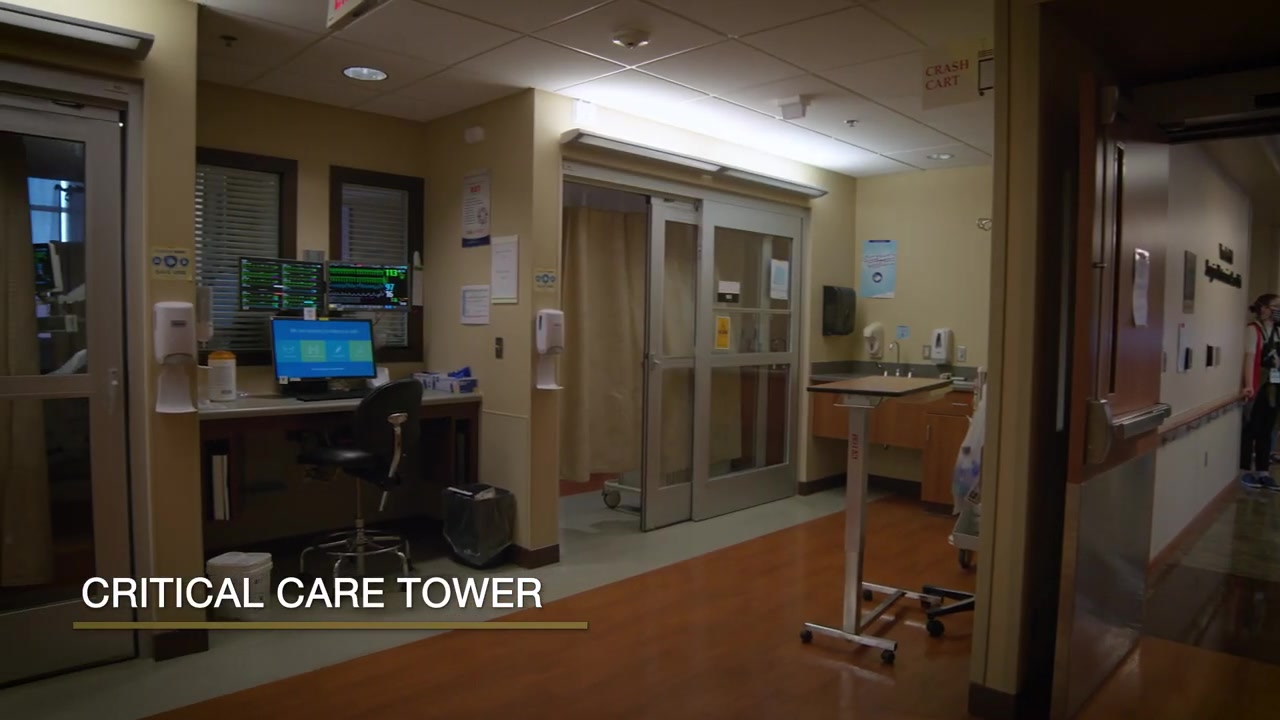chair: (294, 377, 429, 606)
computer: (267, 316, 378, 384), (237, 257, 325, 314), (326, 260, 413, 312)
countertop: (182, 378, 478, 419)
curtain: (562, 204, 744, 484)
dispenser: (153, 299, 199, 415), (535, 308, 564, 392), (821, 285, 858, 340), (198, 281, 215, 355), (929, 326, 956, 369), (861, 319, 886, 360)
door_handle: (104, 365, 122, 418), (645, 354, 673, 372)
faucet: (873, 341, 925, 382)
hallway_assist_bar: (1158, 393, 1246, 442)
handle: (950, 399, 971, 409), (925, 425, 932, 448)
keyboard: (296, 387, 374, 401)
overbed_table: (799, 374, 955, 663)
push_latch: (1089, 400, 1172, 465)
visitor: (1237, 292, 1280, 496)
waste_bin: (441, 481, 517, 574), (205, 550, 275, 625)
